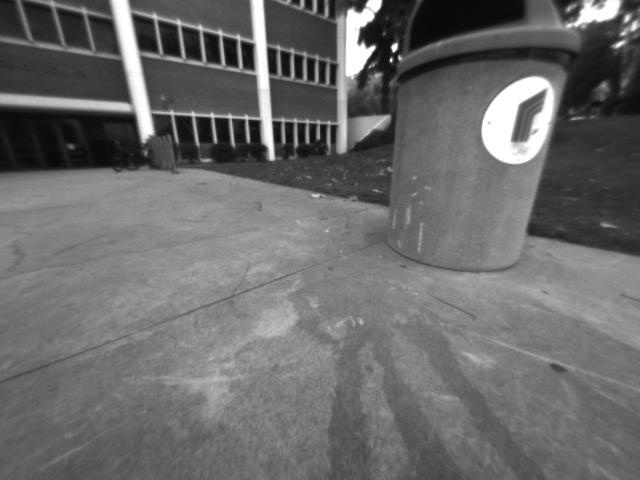trashcan: (371, 1, 567, 291)
